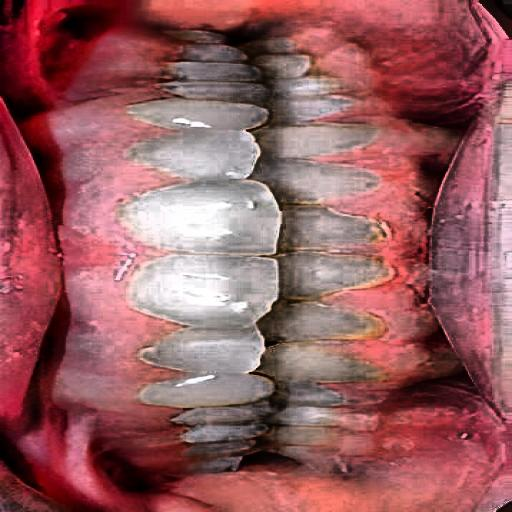Healthy: (116, 36, 452, 443)
